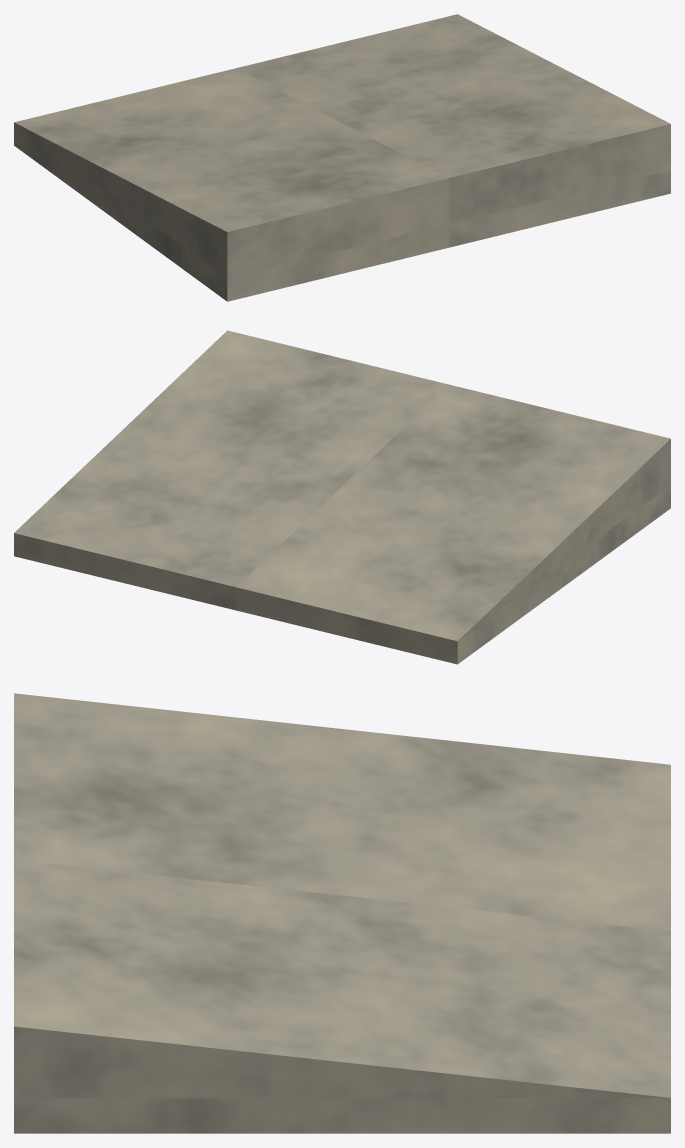
The model's file is Office_Threshold_Ramp.glb.
The picture shows the model from 3 angles, top to bottom: view 1: azimuth 30°, elevation 25°; view 2: azimuth 150°, elevation 25°; view 3: azimuth 270°, elevation 25°; orthographic projection. The views are drawn at different scales.
Visible parts, largest first — view 1: Office_Threshold_Ramp; view 2: Office_Threshold_Ramp; view 3: Office_Threshold_Ramp.
Boxes of the visible parts, x1=… form: Office_Threshold_Ramp: x1=14, y1=14, x2=670, y2=301; Office_Threshold_Ramp: x1=14, y1=330, x2=670, y2=664; Office_Threshold_Ramp: x1=14, y1=693, x2=670, y2=1133.
Bounding box in the file's own units: 2.4 × 0.36 × 2.
1 material, 1 textured.
